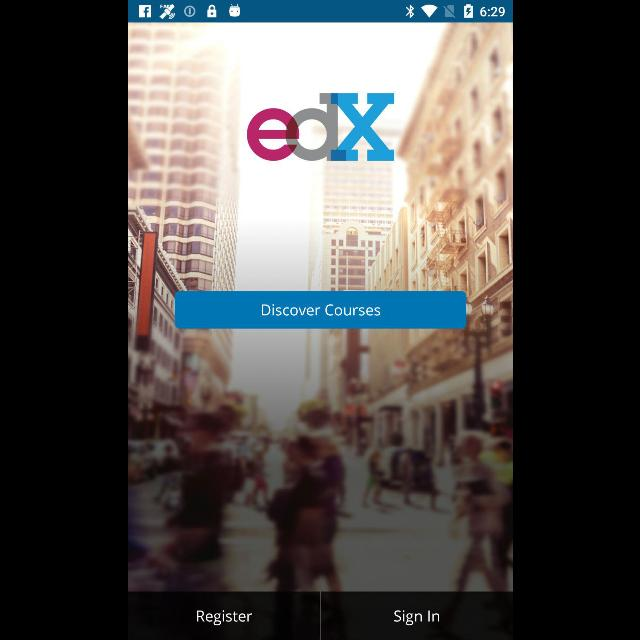backgroundimage: (128, 23, 512, 591)
image: (246, 92, 394, 162)
textbutton: (174, 292, 466, 328), (320, 592, 512, 640), (127, 592, 319, 640)
uppertaskbar: (128, 1, 512, 23)
